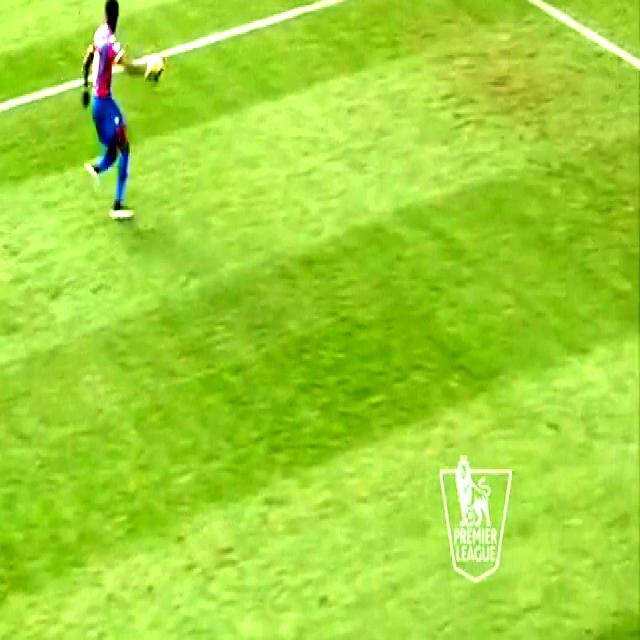ball: (139, 39, 168, 95)
soccer-player: (72, 0, 163, 233)
